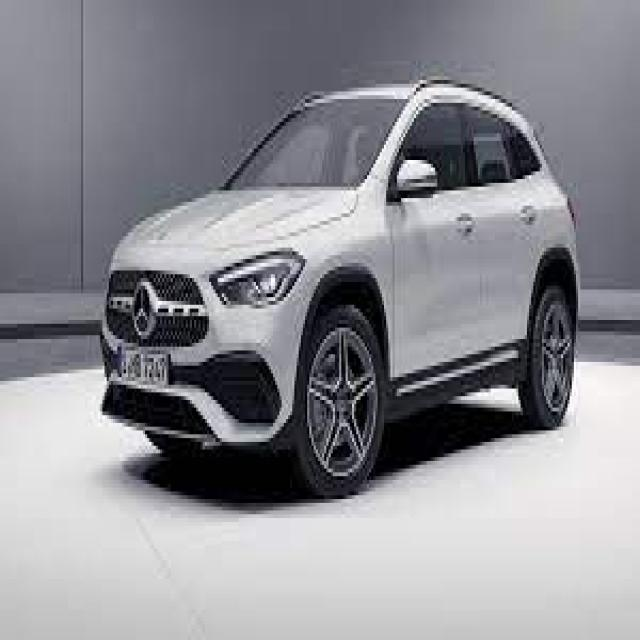Car: (92, 60, 586, 505)
